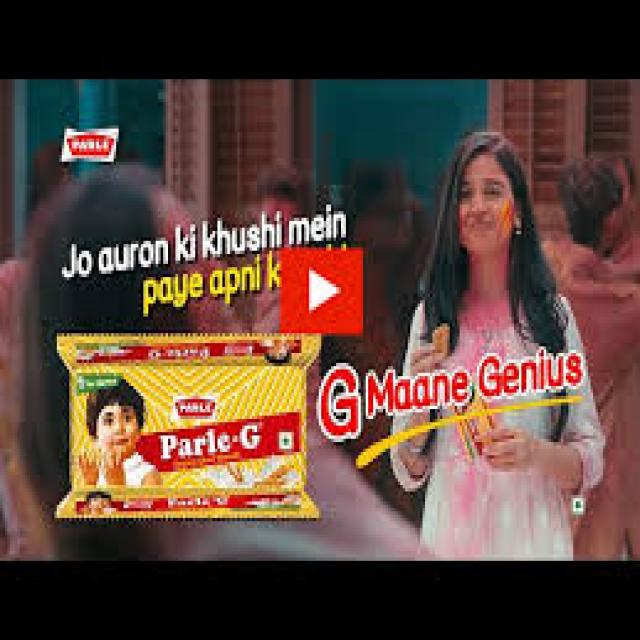parle-g: (57, 334, 320, 516)
